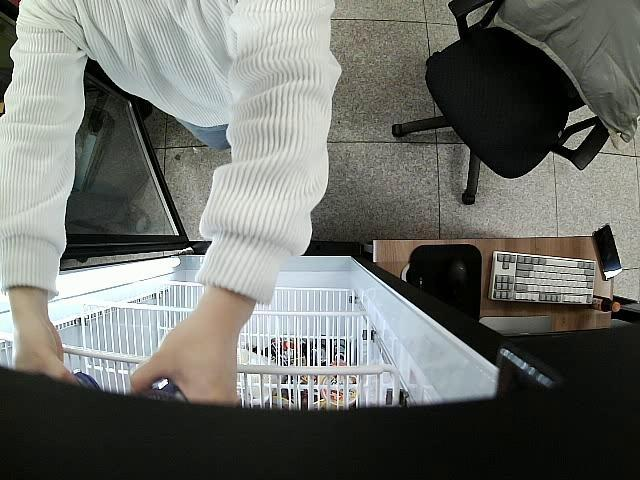14_welchsGrape: (64, 368, 104, 394)
